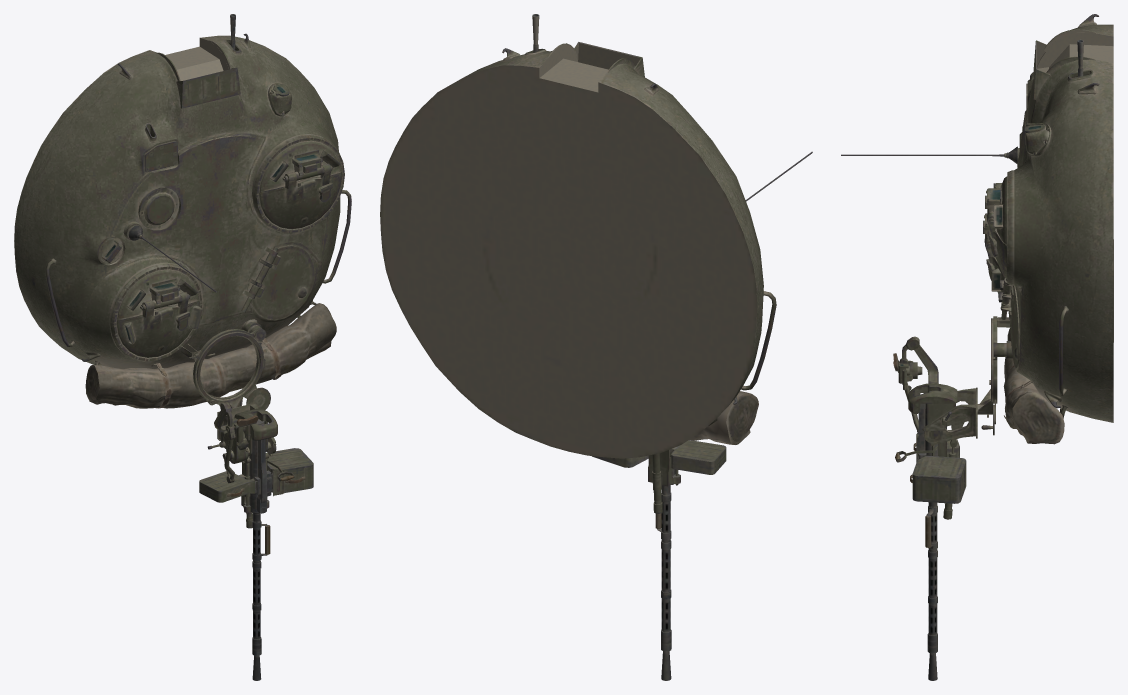
Rendered from Turret_02.glb.
The picture shows the model from 3 angles, left to right: view 1: azimuth 30°, elevation 25°; view 2: azimuth 150°, elevation 25°; view 3: azimuth 270°, elevation 25°; orthographic projection. The views are drawn at different scales.
Visible parts, largest first — view 1: set_0_group_0; view 2: set_0_group_0; view 3: set_0_group_0.
Part boxes in pixels (x1,y1,x2,y2): set_0_group_0: (14,14,351,680); set_0_group_0: (380,14,812,680); set_0_group_0: (841,14,1113,680).
Bounding box in the file's own units: 2.48 × 4.46 × 1.67.
1 material, 1 textured.
